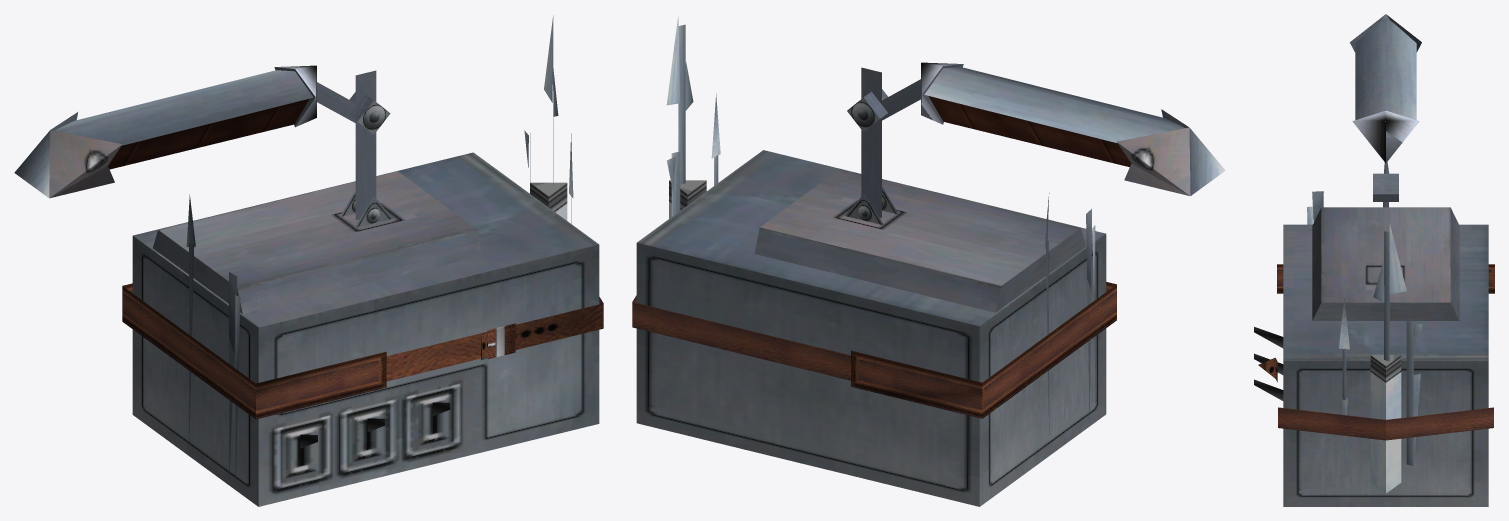
Rendered from eqp_tool_droid_toolkit_l1.fbx.
The picture shows the model from 3 angles, left to right: view 1: azimuth 30°, elevation 25°; view 2: azimuth 150°, elevation 25°; view 3: azimuth 270°, elevation 25°; orthographic projection. The views are drawn at different scales.
Visible parts, largest first — view 1: mesh_node; view 2: mesh_node; view 3: mesh_node.
Part boxes in pixels (bbox=[...]): mesh_node: bbox=[14, 15, 603, 506]; mesh_node: bbox=[632, 16, 1225, 506]; mesh_node: bbox=[1254, 14, 1494, 506].
Bounding box in the file's own units: 0.8271 × 0.541 × 0.3934.
